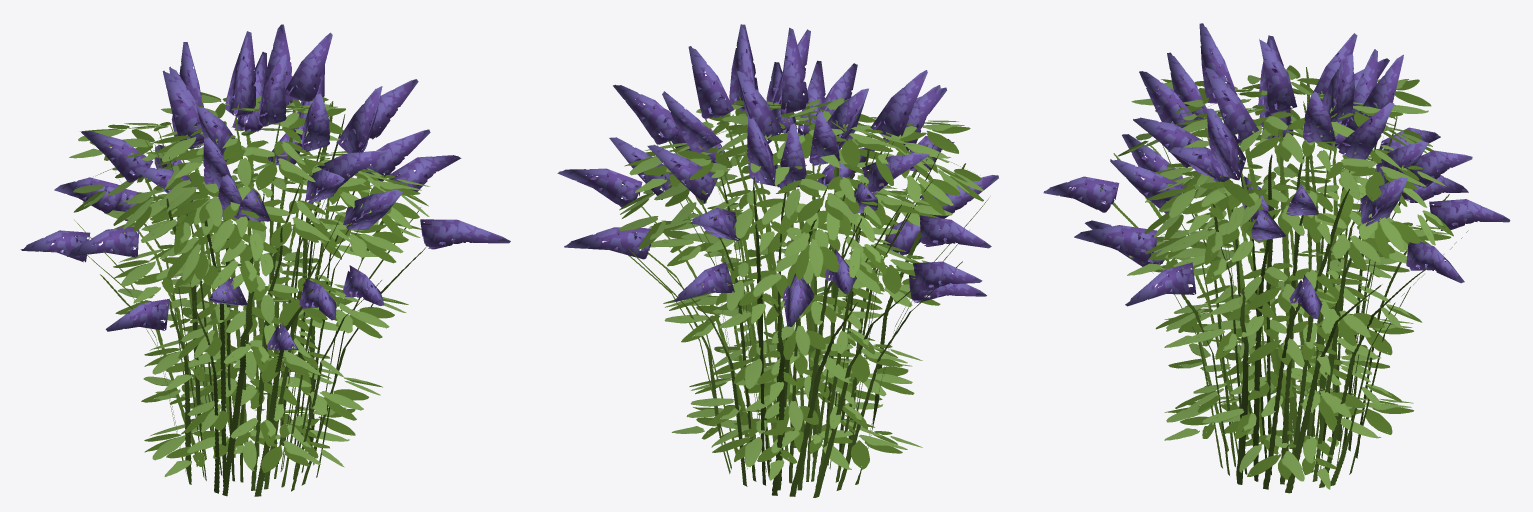
Rendered from Butterfly_Bush.fbx.
3 views of the same model, side by side, from view 1: azimuth 30°, elevation 25°; view 2: azimuth 150°, elevation 25°; view 3: azimuth 270°, elevation 25° (orthographic). The views are drawn at different scales.
Visible parts, largest first — view 1: Buddeleja Full 02 _ Deform; view 2: Buddeleja Full 02 _ Deform; view 3: Buddeleja Full 02 _ Deform.
Part boxes in pixels (x1,y1,x2,y2): Buddeleja Full 02 _ Deform: (20,24,510,496); Buddeleja Full 02 _ Deform: (557,24,998,497); Buddeleja Full 02 _ Deform: (1043,23,1510,493).
Size of the model in its own units: 121 by 112 by 110.
